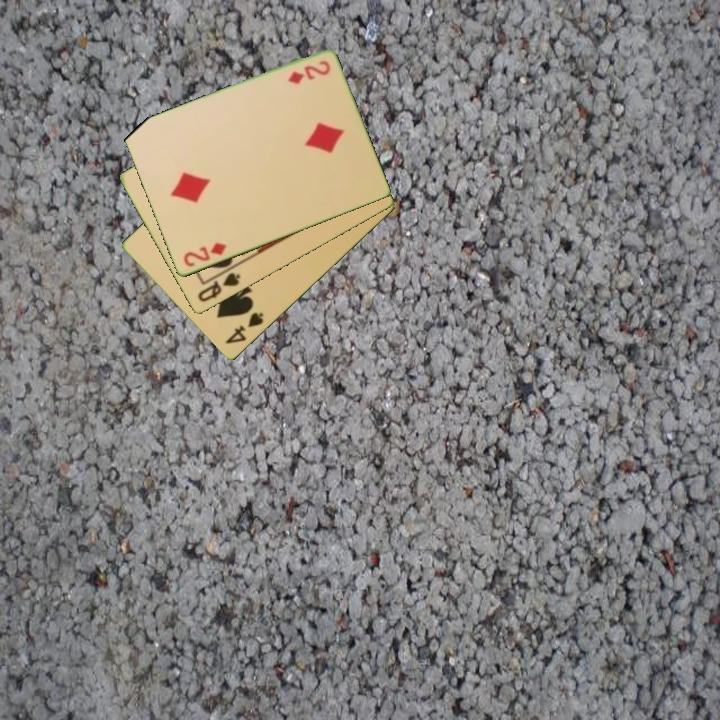2d: (180, 239, 229, 270), (284, 57, 333, 87)
4s: (221, 309, 266, 347)
Qs: (194, 269, 243, 305)
